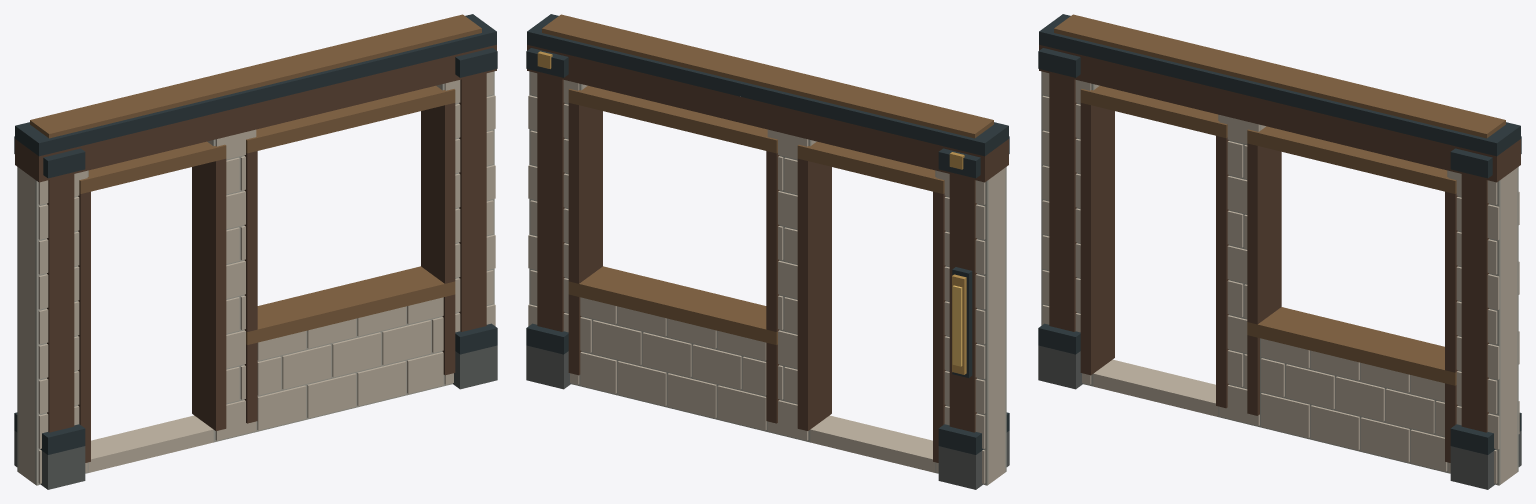
File: visual-far.glb
The picture shows the model from 3 angles, left to right: view 1: azimuth 30°, elevation 25°; view 2: azimuth 150°, elevation 25°; view 3: azimuth 330°, elevation 25°; orthographic projection.
Visible parts, largest first — view 1: 旧楼分段入口及窗洞墙; view 2: 旧楼分段入口及窗洞墙; view 3: 旧楼分段入口及窗洞墙.
Part boxes in pixels (x1,y1,x2,y2): 旧楼分段入口及窗洞墙: [14, 14, 497, 489]; 旧楼分段入口及窗洞墙: [526, 14, 1009, 489]; 旧楼分段入口及窗洞墙: [1038, 14, 1521, 489].
Bounding box in the file's own units: 4.4 × 3.2 × 0.6.
8 materials, 8 textured.
